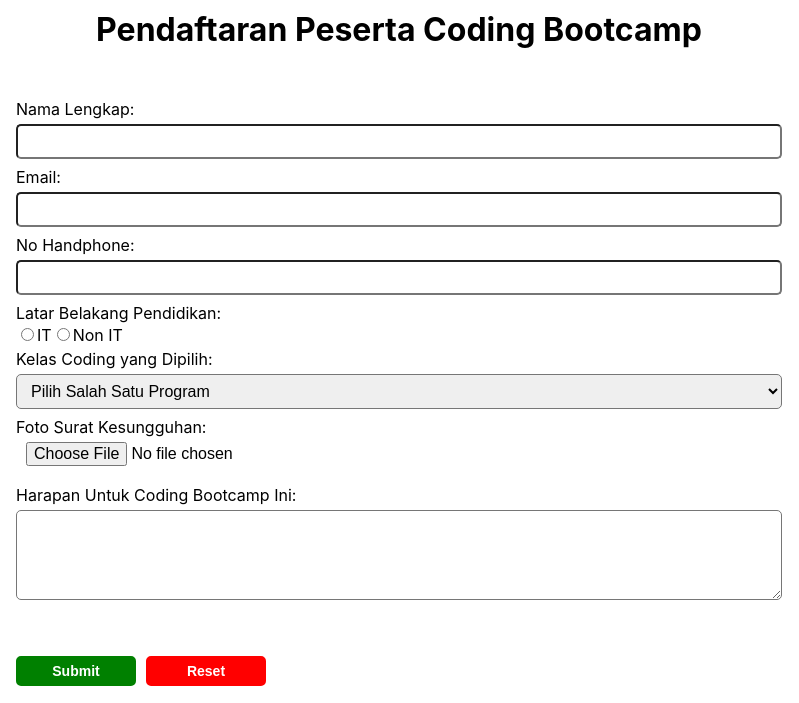
Test: Form › reset form data
Type "Fadillah" into the field with test id "nama".
click(399, 142); type("Fadillah")  # box [16,124,782,159]
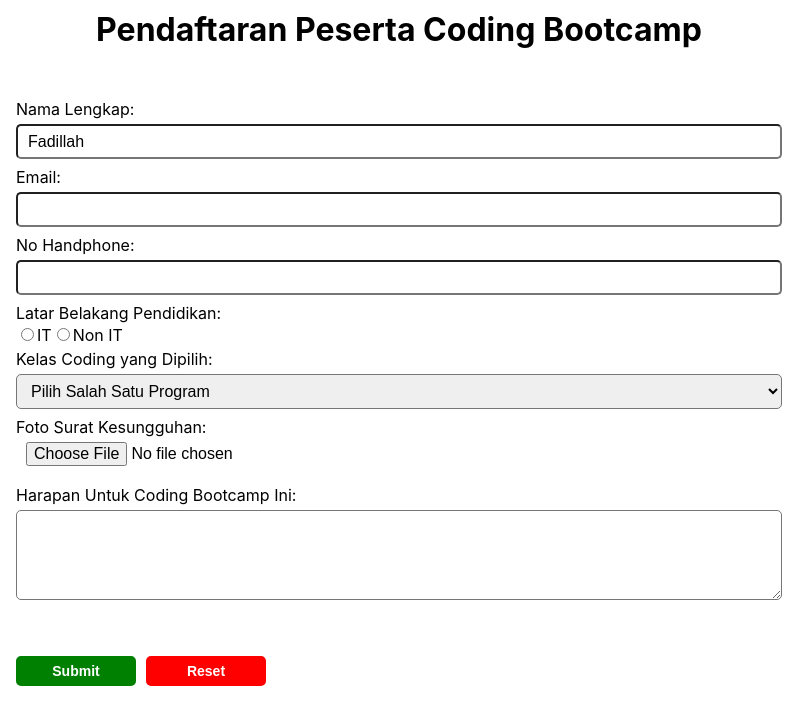
Type "Fadillah@gmail.com" into the field with test id "email".
click(399, 210); type("Fadillah@gmail.com")  # box [16,192,782,227]
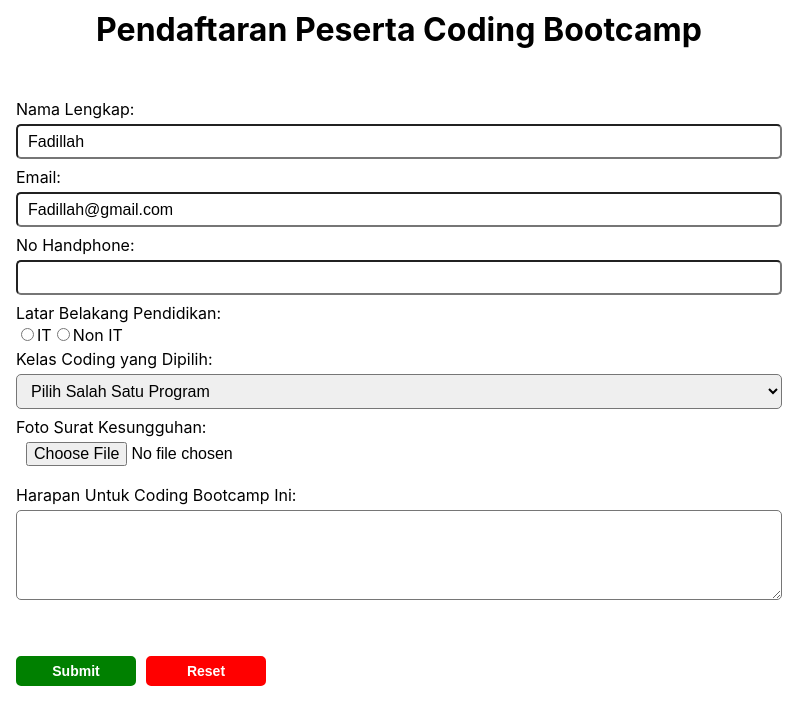
Type "081320503262" into the number field with test id "noHandphone".
click(399, 278); type("081320503262")  # box [16,260,782,295]
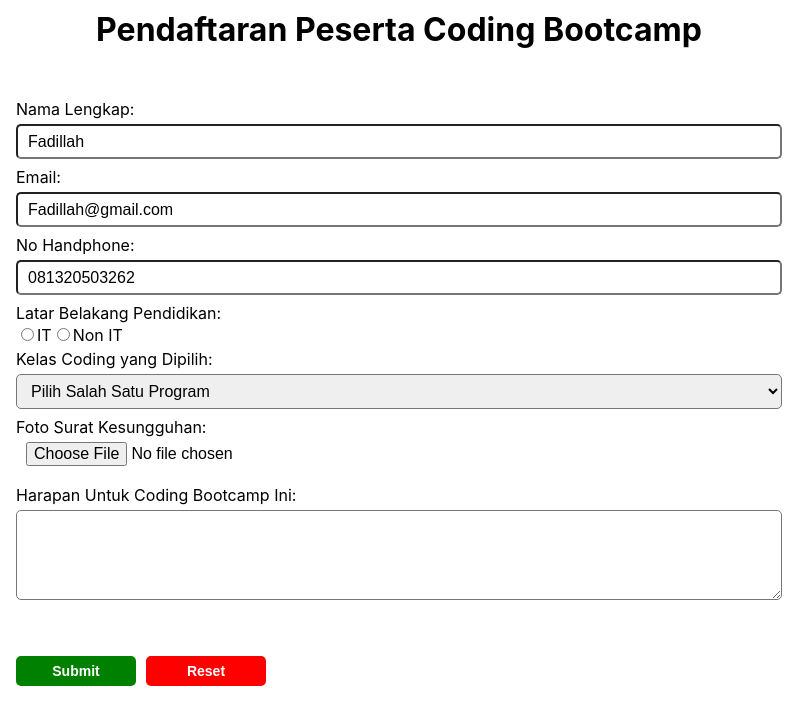
Type "Harapan" into the text box with test id "textHarapan".
click(399, 555); type("Harapan")  # box [16,510,782,600]
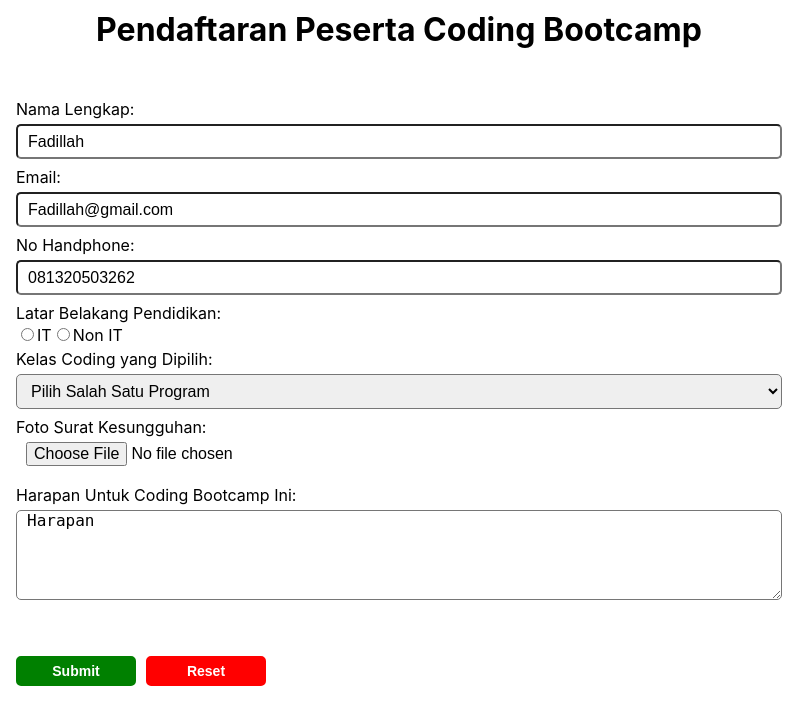
// Reset Btn
Click the button "Reset".
click(206, 671)  # box [146,656,266,686]
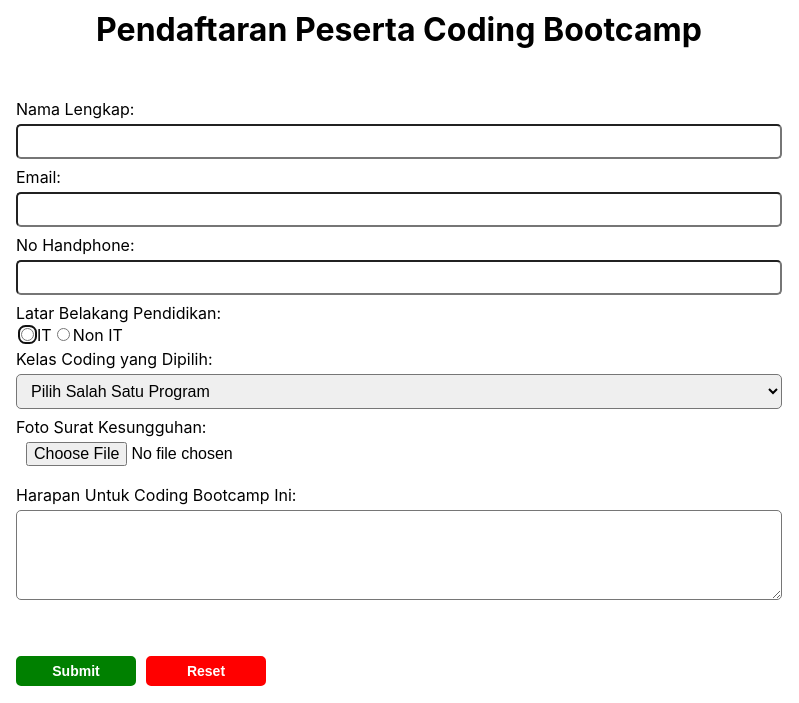
expect the field with test id "nama" is empty: met, box [16,124,782,159]
expect the field with test id "email" is empty: met, box [16,192,782,227]
expect the number field with test id "noHandphone" is empty: met, box [16,260,782,295]
